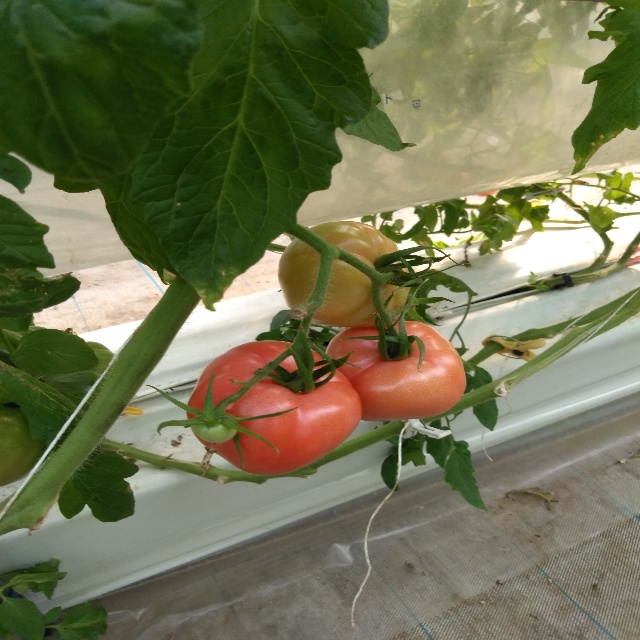b_fully_ripened: (187, 340, 363, 475)
b_green: (0, 405, 50, 486), (189, 411, 239, 444)
b_half_ripened: (322, 320, 466, 421), (278, 221, 413, 328)
